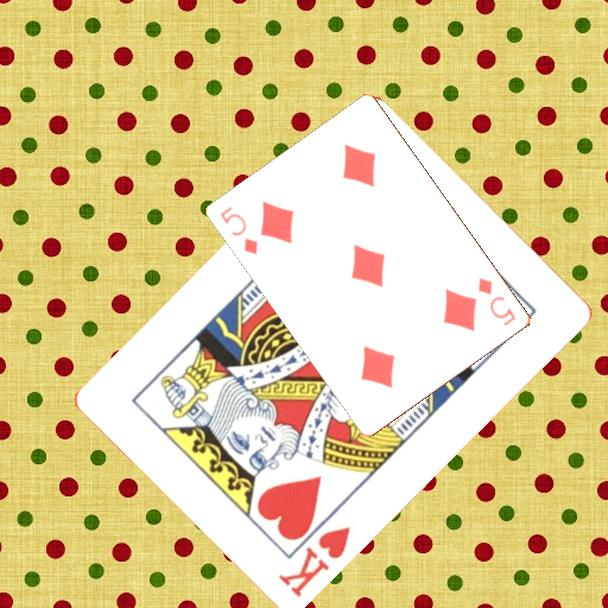d05: (217, 203, 262, 258), (475, 274, 519, 329)
h13: (274, 522, 354, 600)
